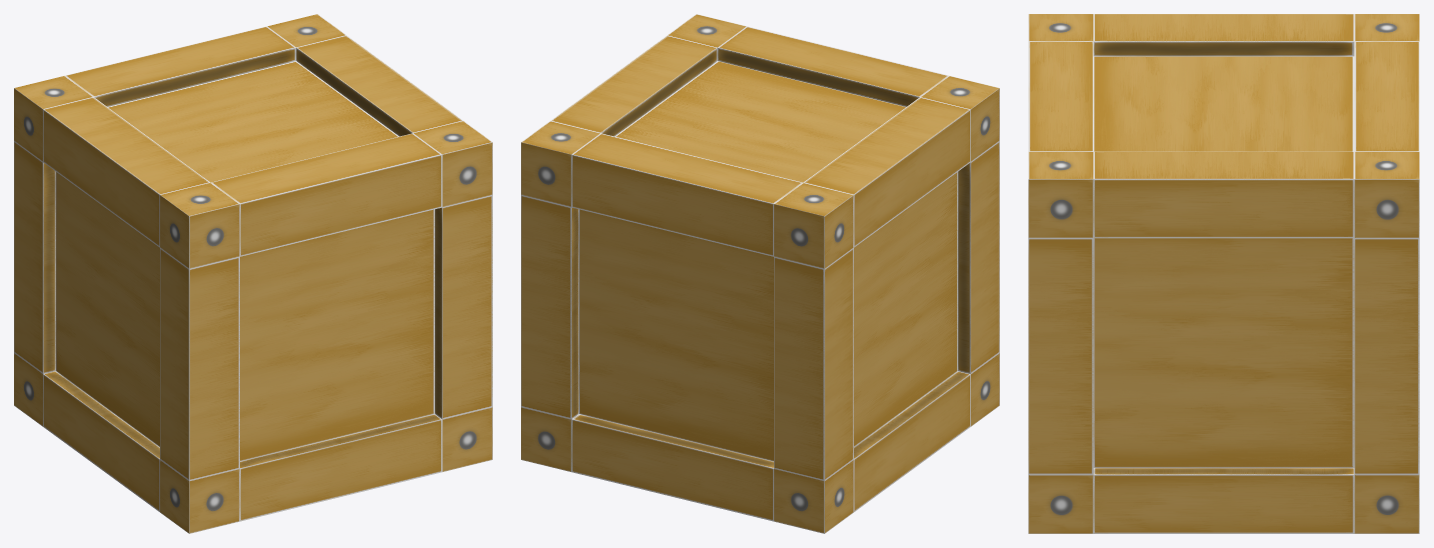
File: kibako.fbx
3 views of the same model, side by side, from view 1: azimuth 30°, elevation 25°; view 2: azimuth 150°, elevation 25°; view 3: azimuth 270°, elevation 25° (orthographic). The views are drawn at different scales.
Parts seen in each view (by area): view 1: Box001; view 2: Box001; view 3: Box001.
Boxes of the visible parts, left/top/right/bottom form: Box001: left=14, top=14, right=492, bottom=533; Box001: left=521, top=14, right=999, bottom=533; Box001: left=1028, top=14, right=1419, bottom=533.
Size of the model in its own units: 23.62 by 23.62 by 23.62.
